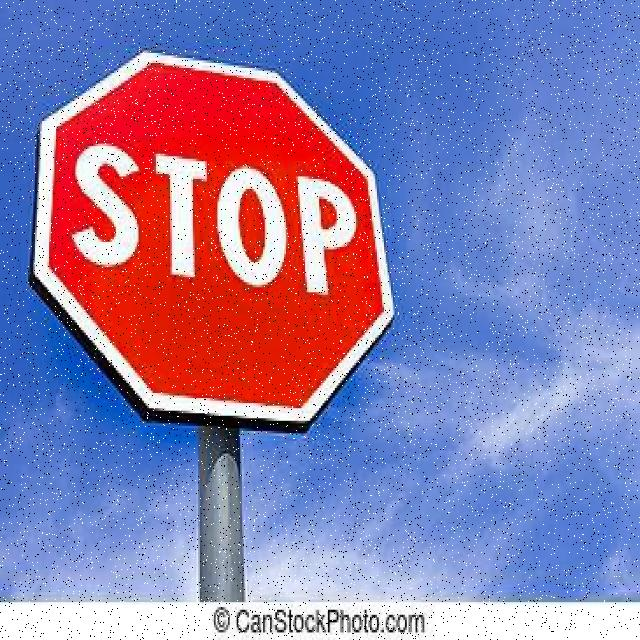stop: (34, 43, 399, 443)
